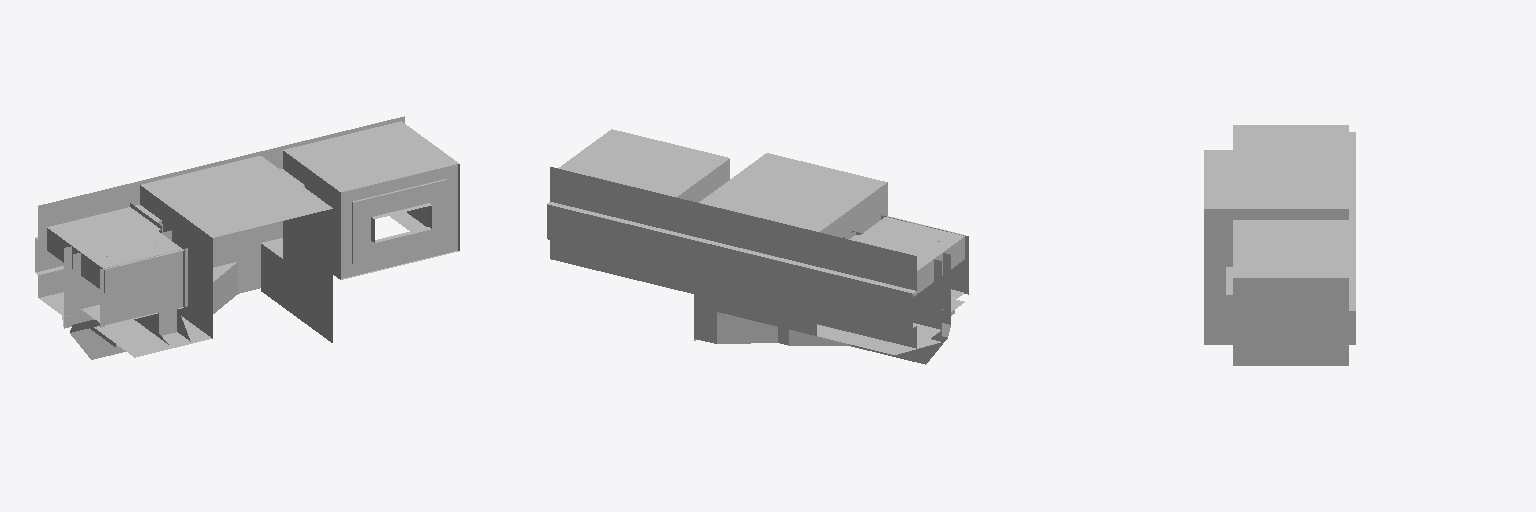
The model's file is aztec_7_mesh.obj.
The picture shows the model from 3 angles: view 1: azimuth 30°, elevation 25°; view 2: azimuth 150°, elevation 25°; view 3: azimuth 270°, elevation 25°; orthographic projection.
Parts seen in each view (by area): view 1: aztec_7_mesh_1, aztec_7_mesh_0; view 2: aztec_7_mesh_0, aztec_7_mesh_1; view 3: aztec_7_mesh_1, aztec_7_mesh_0.
Boxes of the visible parts, box(x1,y1,x2,y2) form: aztec_7_mesh_1: box(39, 121, 459, 357); aztec_7_mesh_0: box(35, 116, 404, 359); aztec_7_mesh_0: box(547, 167, 950, 364); aztec_7_mesh_1: box(558, 129, 968, 354); aztec_7_mesh_1: box(1204, 125, 1355, 365); aztec_7_mesh_0: box(1349, 132, 1355, 310).
Bounding box in the file's own units: 47.39 × 17.25 × 17.07.